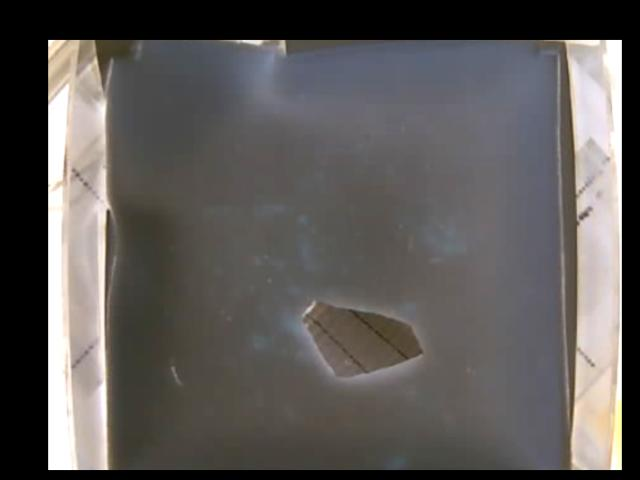China: (300, 296, 421, 378)
